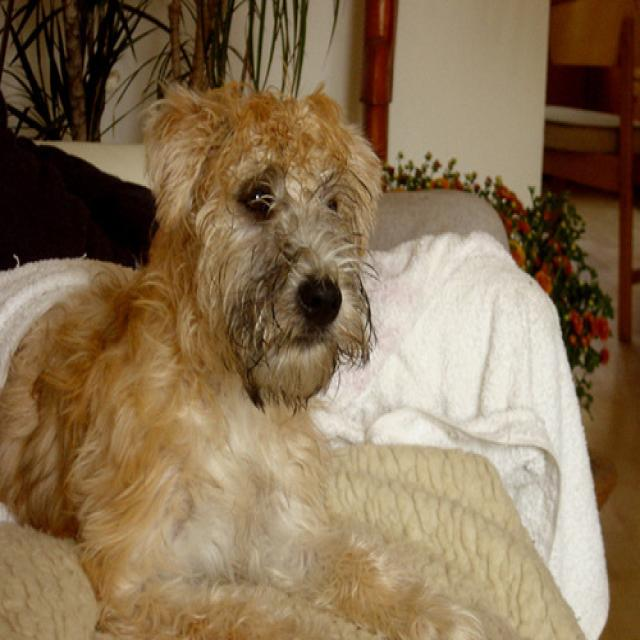dog-wheaten_terrier: (1, 67, 518, 637)
